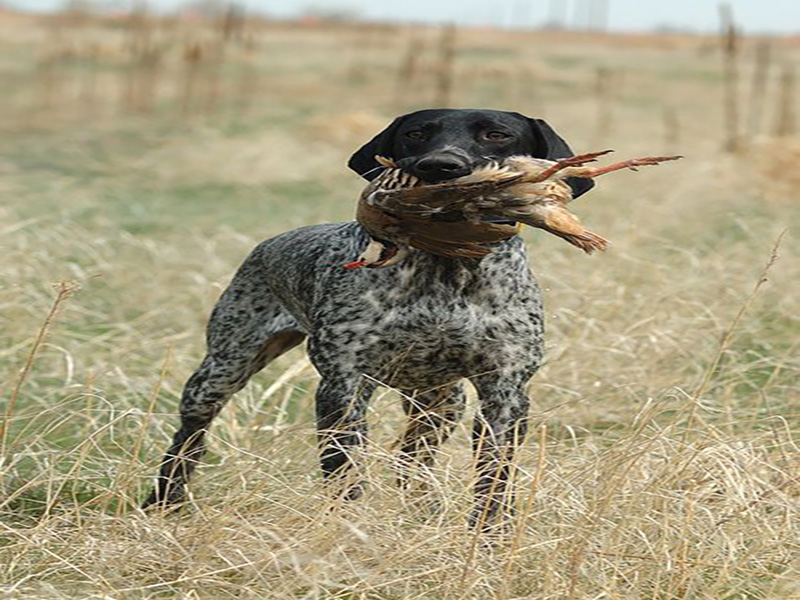cane da caccia: (139, 104, 598, 521)
